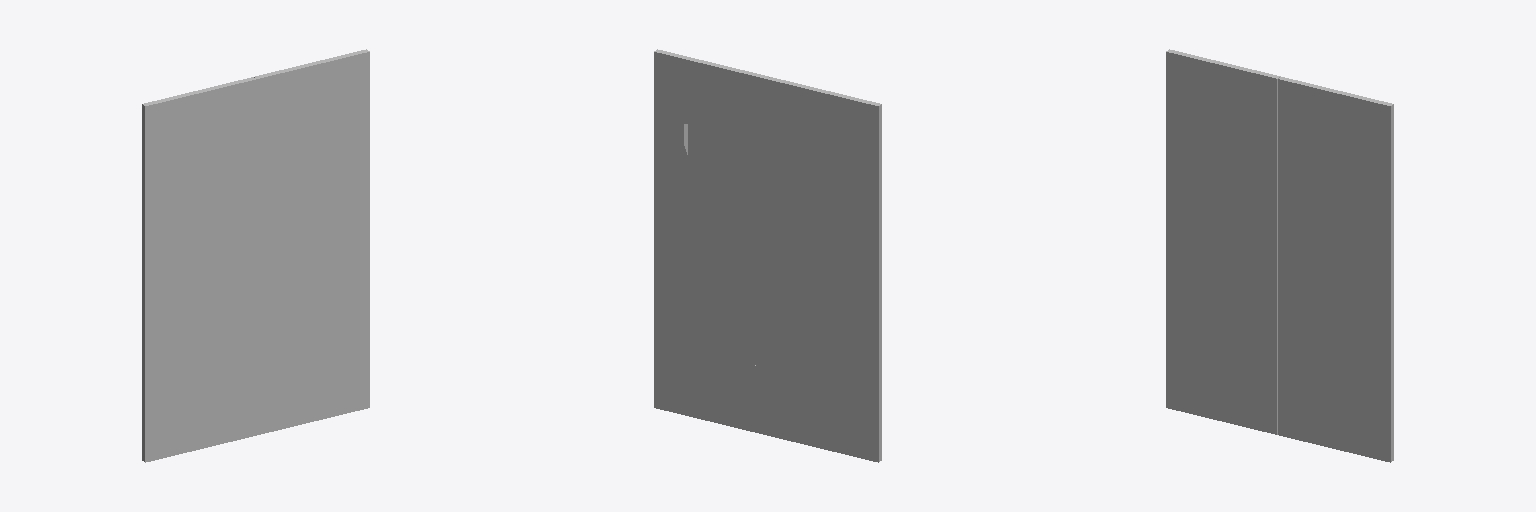
File: puerta exterior.obj
The picture shows the model from 3 angles: view 1: azimuth 30°, elevation 25°; view 2: azimuth 150°, elevation 25°; view 3: azimuth 330°, elevation 25°; orthographic projection.
Visible parts, largest first — view 1: pCube83, pCube82; view 2: pCube83, pCube82; view 3: pCube82, pCube83.
Part boxes in pixels (x1,y1,x2,y2): pCube83: (142,77,256,462); pCube82: (254,49,369,434); pCube83: (767,77,881,462); pCube82: (654,49,769,434); pCube82: (1278,77,1393,462); pCube83: (1166,49,1280,434).
Bounding box in the file's own units: 39.03 × 59.16 × 1.